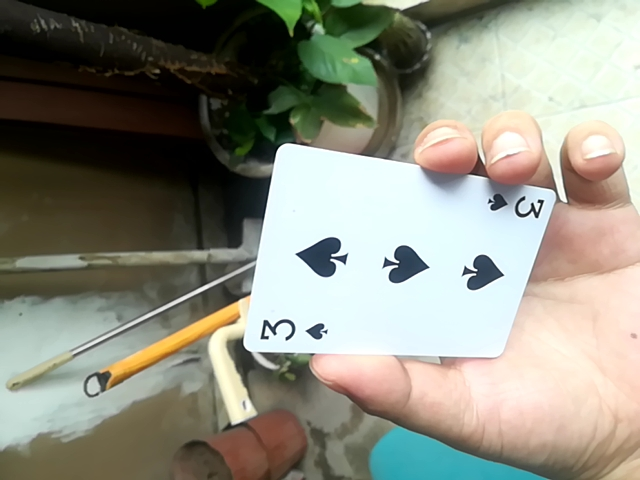ht 3: (242, 140, 556, 358)
